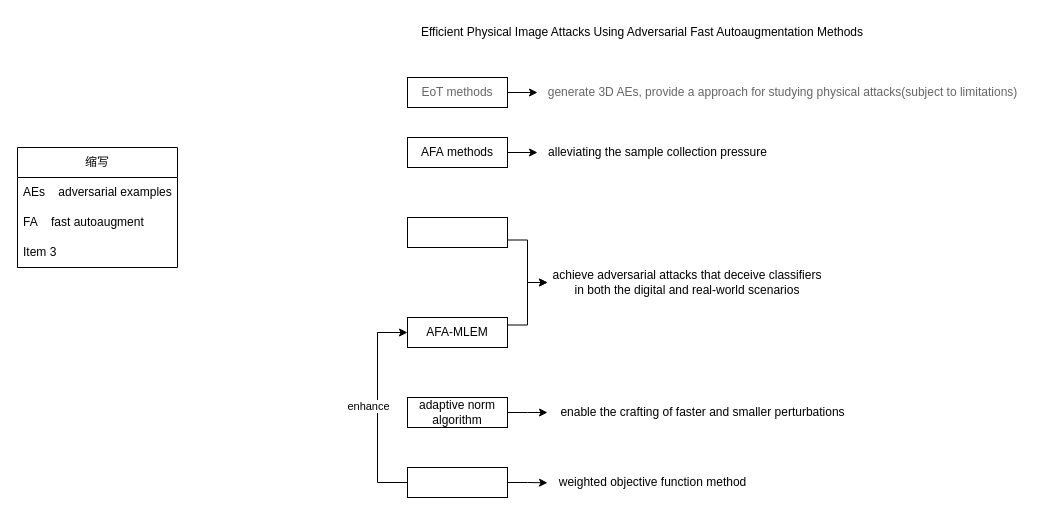
Some shapes in this 1045 by 515 pixel diagram are drawn without their labels. The centre of each missing label's shape, as x and y in pixels:
"AFA-MSEM" goes at point 457,232.
"WOFM" goes at point 457,482.
